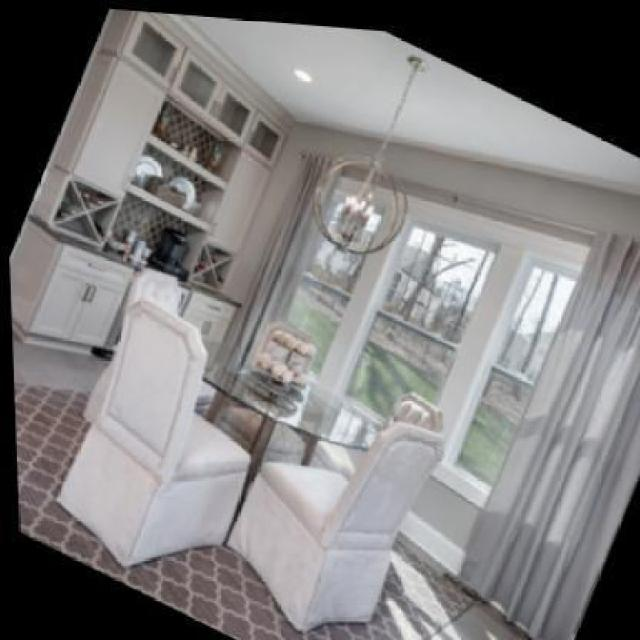tables: (199, 366, 386, 548)
